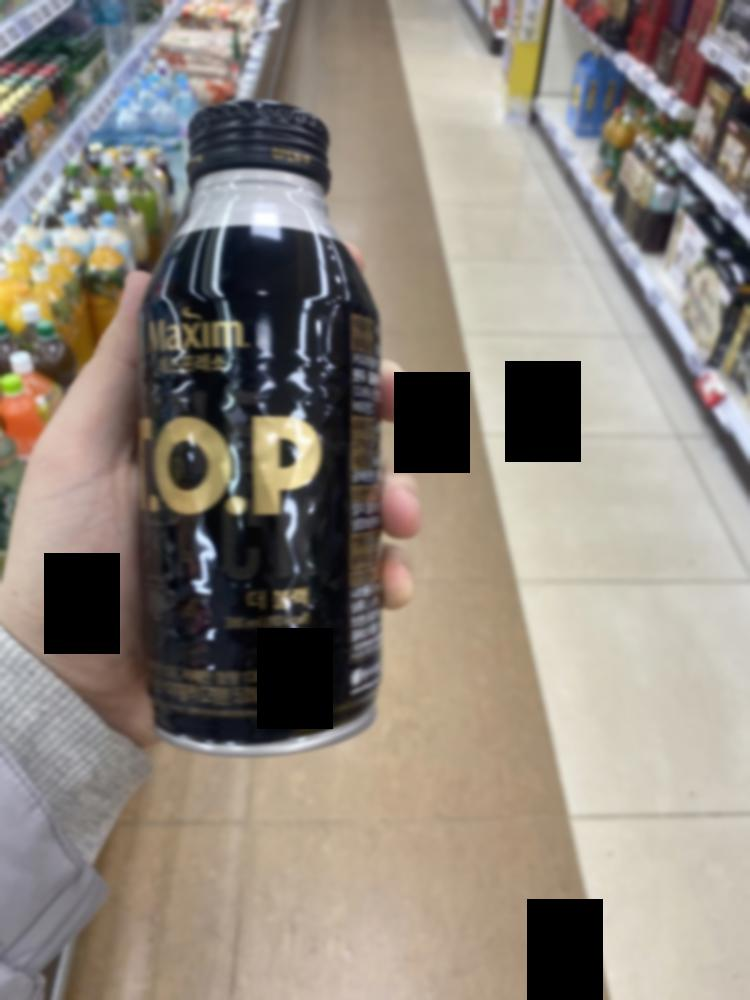TOP_black: (142, 98, 378, 748)
